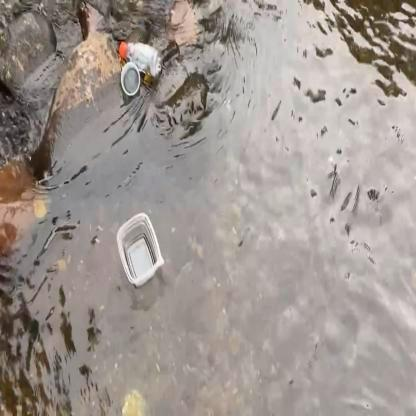Plastic: (114, 206, 167, 295), (115, 34, 163, 94)
